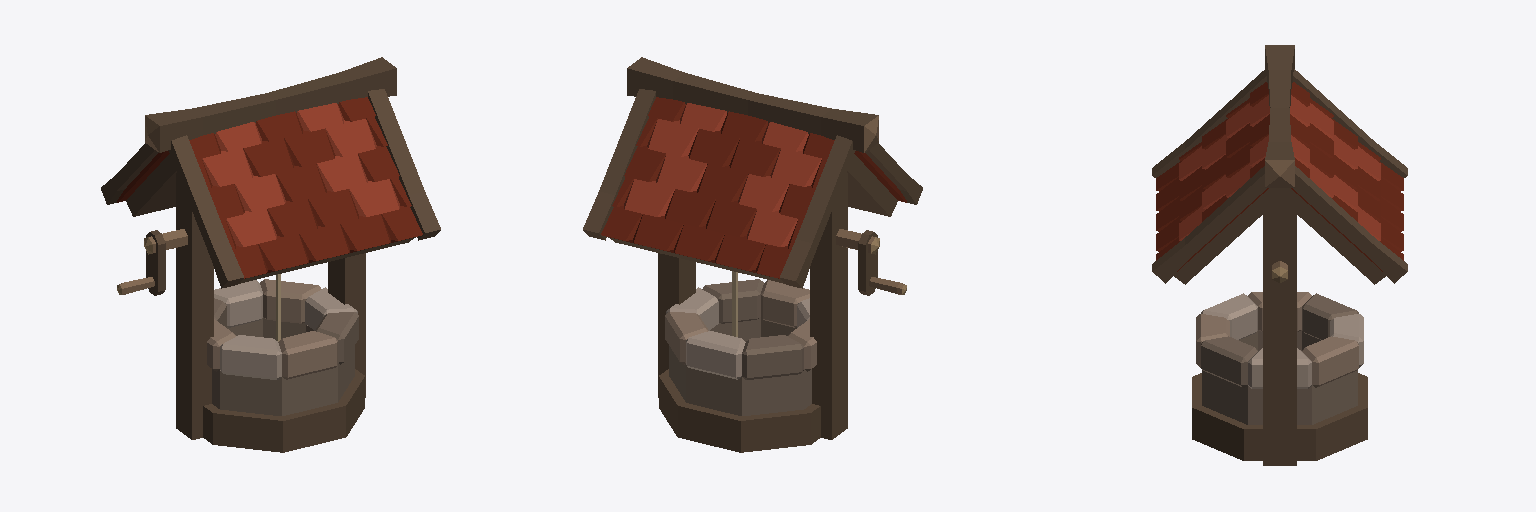
The model's file is Prop_Well_1.obj.
The picture shows the model from 3 angles: view 1: azimuth 30°, elevation 25°; view 2: azimuth 150°, elevation 25°; view 3: azimuth 270°, elevation 25°; orthographic projection.
Visible parts, largest first — view 1: object16, object12, object6, object5, object15, object8, object2, object3, object11, object7, object4, object10; view 2: object16, object12, object6, object5, object15, object8, object7, object1, object11, object2, object4, object10; view 3: object16, object12, object11, object15, object8, object5, object1, object3, object2, object7.
Part boxes in pixels (left/top/right/bottom): object16: left=117, top=97, right=422, bottom=283; object12: left=207, top=279, right=358, bottom=379; object6: left=176, top=173, right=213, bottom=439; object5: left=145, top=57, right=396, bottom=152; object15: left=203, top=369, right=364, bottom=452; object8: left=212, top=317, right=354, bottom=415; object2: left=168, top=135, right=243, bottom=288; object3: left=368, top=89, right=440, bottom=240; object11: left=328, top=253, right=365, bottom=397; object7: left=101, top=143, right=158, bottom=204; object4: left=146, top=230, right=165, bottom=295; object10: left=144, top=229, right=187, bottom=254; object16: left=601, top=97, right=906, bottom=283; object12: left=665, top=279, right=816, bottom=379; object6: left=810, top=173, right=847, bottom=439; object5: left=627, top=57, right=878, bottom=152; object15: left=659, top=369, right=820, bottom=452; object8: left=669, top=317, right=811, bottom=415; object7: left=780, top=135, right=855, bottom=288; object1: left=583, top=89, right=655, bottom=240; object11: left=658, top=253, right=695, bottom=397; object2: left=865, top=143, right=922, bottom=204; object4: left=858, top=230, right=877, bottom=295; object10: left=836, top=229, right=879, bottom=254; object16: left=1156, top=82, right=1403, bottom=284; object12: left=1196, top=292, right=1363, bottom=388; object11: left=1263, top=199, right=1296, bottom=465; object15: left=1192, top=373, right=1367, bottom=460; object8: left=1202, top=330, right=1357, bottom=424; object5: left=1265, top=45, right=1294, bottom=187; object1: left=1293, top=166, right=1407, bottom=283; object3: left=1152, top=166, right=1266, bottom=283; object2: left=1152, top=69, right=1266, bottom=177; object7: left=1293, top=69, right=1407, bottom=177.
Bounding box in the file's own units: 1.36 × 1.51 × 1.09.